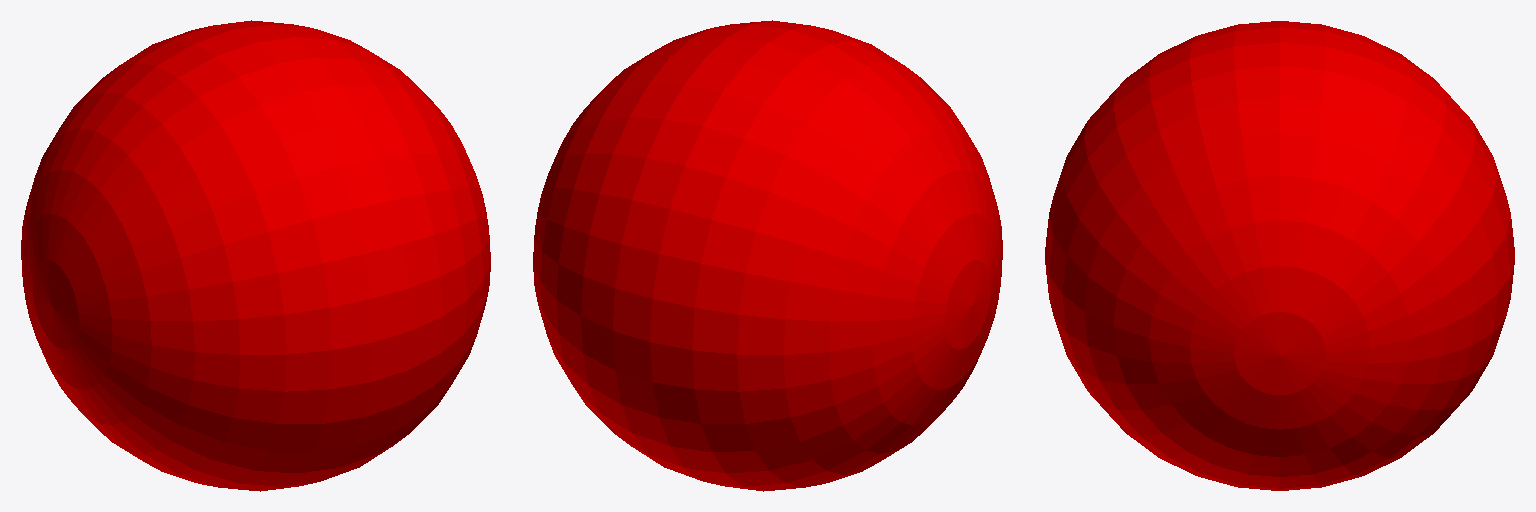
robot.urdf — frame_vis:
<?xml version="1.0" ?>
<robot name="frame_vis">

    <!-- colours -->
    <material name="blue">
        <color rgba="0 0 0.925 1"/>
    </material>
    <material name="green">
        <color rgba="0 0.925 0 1"/>
    </material>
    <material name="red">
        <color rgba="0.925 0 0 1"/>
    </material>

    <!-- links -->
    <link name="base_link">
        <inertial>
            <origin rpy="0 0 0" xyz="0 0 0"/>
            <mass value="0"/>
            <inertia ixx = "0" ixy = "0" ixz = "0"
                    iyx = "0" iyy = "0" iyz = "0"
                    izx = "0" izy = "0" izz = "0" />
        </inertial>
    </link>

    <link name="sphere">
        <inertial>
            <origin rpy="0 0 0" xyz="0 0 0"/>
            <mass value="0"/>
            <inertia ixx = "0" ixy = "0" ixz = "0"
                    iyx = "0" iyy = "0" iyz = "0"
                    izx = "0" izy = "0" izz = "0" />
        </inertial>
        <visual>
            <geometry>
                <sphere radius="1.0"/>
            </geometry>
            <material name="red"/>
        </visual>
    </link>

    <!-- joints -->
    <joint name="attach_x_to_base" type="fixed">
        <origin rpy="0 1.5708 0" xyz="0 0 0"/>
        <parent link="base_link"/>
        <child link="sphere"/>
    </joint>

</robot>

--- Render facts (derived) ---
Views: 3 orthographic renders of the robot side by side, from view 1: azimuth 30°, elevation 25°; view 2: azimuth 150°, elevation 25°; view 3: azimuth 270°, elevation 25°.
Robot: frame_vis — 2 links, 1 joints (1 fixed); root link base_link; default pose: every joint at zero.
Visible links, largest first — view 1: sphere; view 2: sphere; view 3: sphere.
Boxes of the visible links, <box> form: sphere: <box>21,20,490,491</box>; sphere: <box>533,20,1002,491</box>; sphere: <box>1045,21,1514,490</box>.
Bounding box of the posed robot: 2 × 2 × 2 m (x, y, z).
Geometry: primitives only (box / cylinder / sphere), no mesh files.